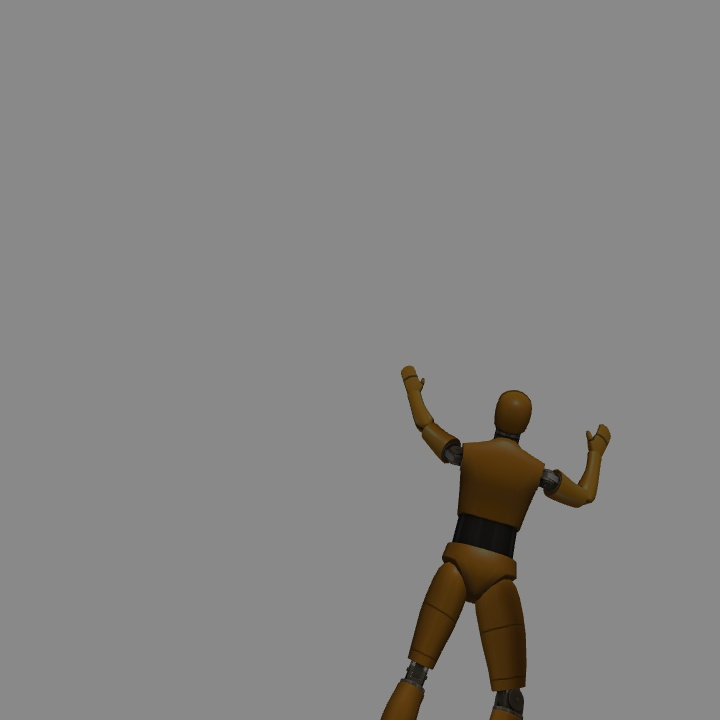victim: (400, 365, 540, 711)
